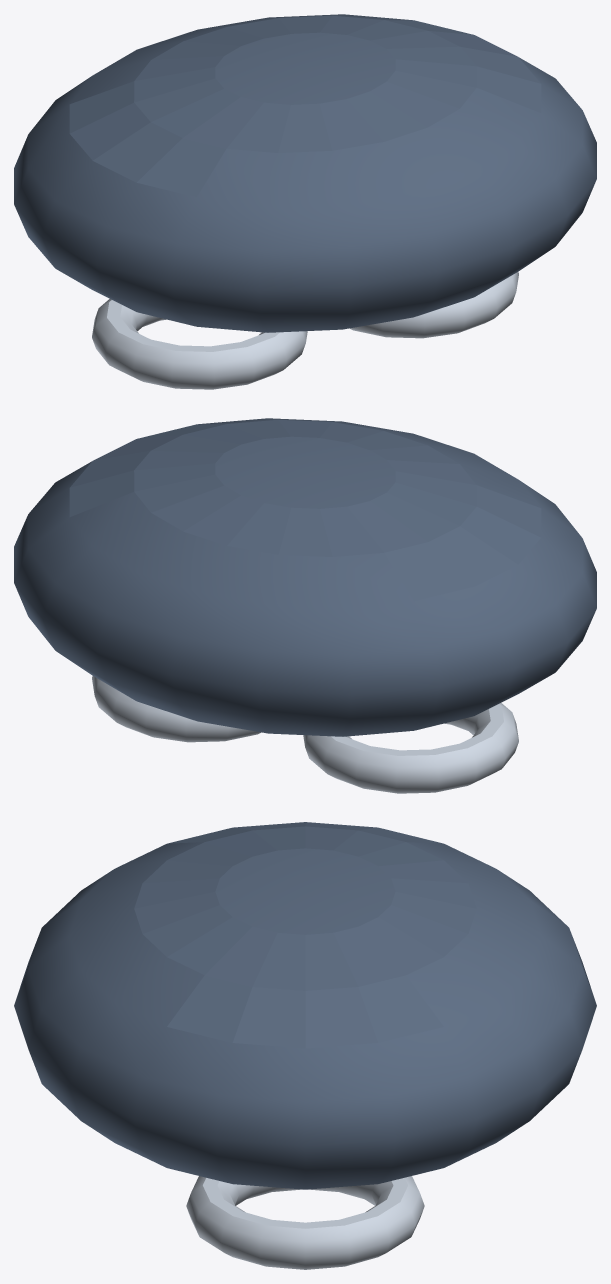
Rendered from Bottom_Spacepants.fbx.
3 views of the same model, one above another, from view 1: azimuth 30°, elevation 25°; view 2: azimuth 150°, elevation 25°; view 3: azimuth 270°, elevation 25° (orthographic). The views are drawn at different scales.
Parts seen in each view (by area): view 1: Pants_Seat, Knee_Ring.001, Knee_Ring; view 2: Pants_Seat, Knee_Ring.001, Knee_Ring; view 3: Pants_Seat, Knee_Ring.
Boxes of the visible parts, left/top/right/bottom form: Pants_Seat: left=14, top=14, right=596, bottom=332; Knee_Ring.001: left=92, top=299, right=307, bottom=389; Knee_Ring: left=349, top=272, right=518, bottom=338; Pants_Seat: left=14, top=418, right=596, bottom=736; Knee_Ring.001: left=303, top=703, right=518, bottom=793; Knee_Ring: left=92, top=676, right=261, bottom=742; Pants_Seat: left=14, top=822, right=596, bottom=1189; Knee_Ring: left=186, top=1176, right=424, bottom=1269.
Bounding box in the file's own units: 50 × 23.71 × 44.
